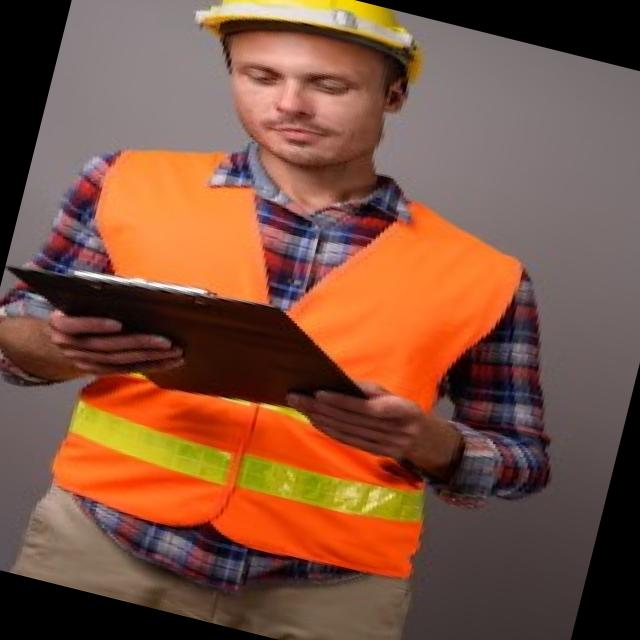not-gloved: (277, 359, 476, 485), (10, 297, 205, 401)
